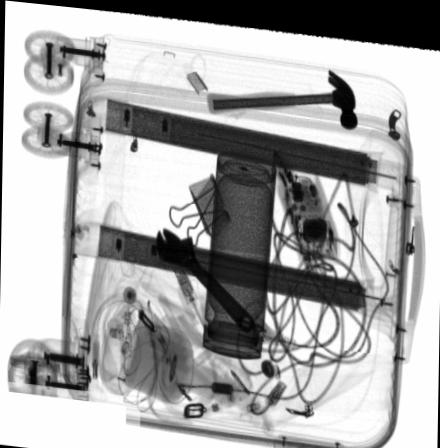Hammer: (203, 59, 357, 120)
Wrench: (154, 223, 253, 328)
